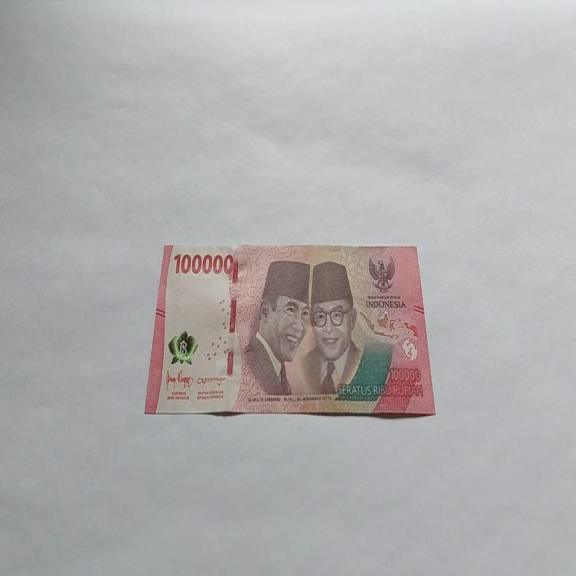Kertas: (144, 240, 436, 418)
